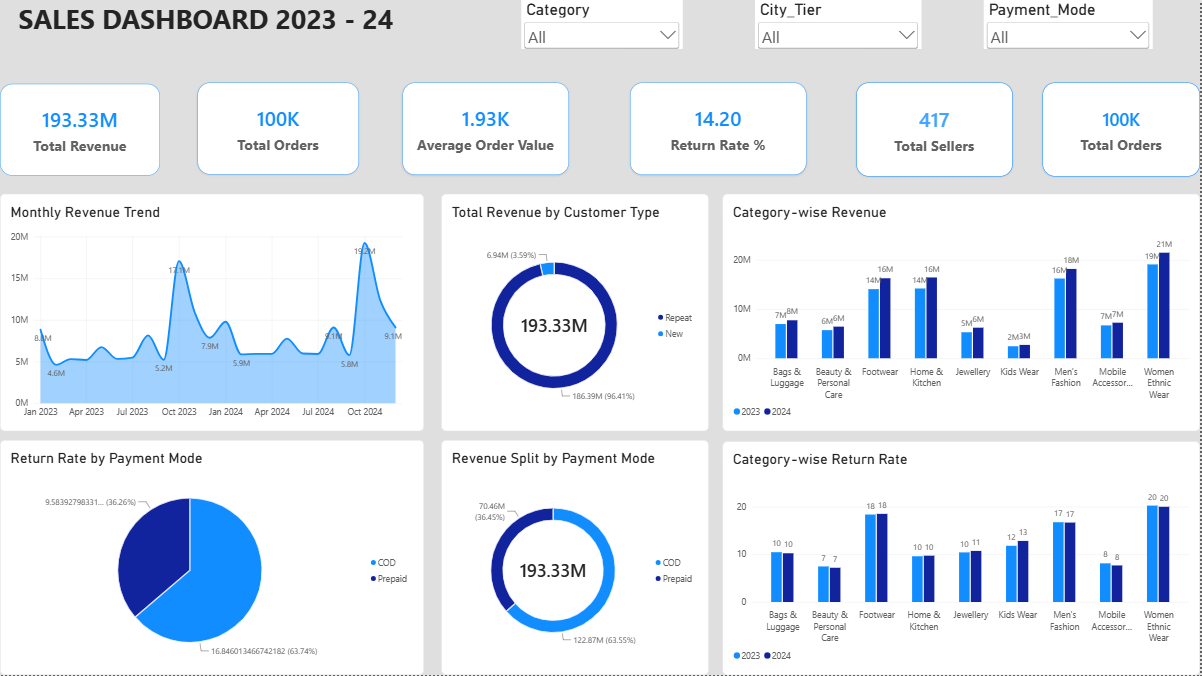

Layout of this report page (visuals, bound fields, positions):
{"tool":"powerbi","page":{"name":"Page 1","canvas":[1920,1080],"ordinal":0},"visuals":[{"type":"card","fields":{"Values":["ecommerce_cleaned.Total Revenue"]},"box":[0,134,256,147.2],"z":0},{"type":"card","fields":{"Values":["ecommerce_cleaned.Total Orders"]},"box":[316,132,258.1,147.2],"z":1},{"type":"card","fields":{"Values":["ecommerce_cleaned.Average Order Value"]},"box":[644,132,266,148],"z":2},{"type":"card","fields":{"Values":["ecommerce_cleaned.Return Rate %"]},"box":[1008,132,252,148],"z":3},{"type":"stackedAreaChart","title":"Monthly Revenue Trend","fields":{"Category":["ecommerce_cleaned.order_date.Variation.Date Hierarchy.Year","ecommerce_cleaned.order_date.Variation.Date Hierarchy.Month"],"Y":["ecommerce_cleaned.Total Revenue"]},"box":[0,310,678,380],"z":4},{"type":"clusteredColumnChart","title":"Category-wise Revenue","fields":{"Category":["ecommerce_cleaned.category"],"Y":["ecommerce_cleaned.Total Revenue"],"Series":["ecommerce_cleaned.order_date.Variation.Date Hierarchy.Year"]},"box":[1156,310,764,380],"z":5},{"type":"pieChart","title":"Return Rate by Payment Mode","fields":{"Category":["ecommerce_cleaned.payment_mode","ecommerce_cleaned.order_date.Variation.Date Hierarchy.Year"],"Y":["ecommerce_cleaned.Return Rate %"]},"box":[0,704,678,376],"z":6},{"type":"clusteredColumnChart","title":"Category-wise Return Rate","fields":{"Category":["ecommerce_cleaned.category"],"Y":["ecommerce_cleaned.Return Rate %"],"Series":["ecommerce_cleaned.order_date.Variation.Date Hierarchy.Year"]},"box":[1156,706,764,374],"z":7},{"type":"donutChart","fields":{"Category":["ecommerce_cleaned.Customer Type"],"Y":["ecommerce_cleaned.Total Revenue"]},"box":[706,310,428,380],"z":8},{"type":"donutChart","title":"Revenue Split by Payment Mode","fields":{"Category":["ecommerce_cleaned.payment_mode"],"Y":["ecommerce_cleaned.Total Revenue"]},"box":[706,704,428,376],"z":9},{"type":"slicer","fields":{"Values":["ecommerce_cleaned.category"]},"box":[834,0,258,78],"z":10},{"type":"slicer","fields":{"Values":["ecommerce_cleaned.city_tier"]},"box":[1156,0,266,78],"z":11},{"type":"slicer","fields":{"Values":["ecommerce_cleaned.payment_mode"]},"box":[1456,0,270,78],"z":12},{"type":"textbox","box":[14,0,630,92],"z":14},{"type":"card","fields":{"Values":["ecommerce_cleaned.Total Sellers"]},"box":[1370,132,222,150],"z":15},{"type":"card","fields":{"Values":["ecommerce_cleaned.Total Orders"]},"box":[1720,132,200,150],"z":16}]}

Visuals, with their boxes in screenshot pixels (x1, y1, x2, y2), scaled from the page's 1920x1080 canvas onto the 1202x676 screenshot:
card - ecommerce_cleaned.Total Revenue: {"x1": 0, "y1": 84, "x2": 160, "y2": 176}
card - ecommerce_cleaned.Total Orders: {"x1": 198, "y1": 83, "x2": 359, "y2": 175}
card - ecommerce_cleaned.Average Order Value: {"x1": 403, "y1": 83, "x2": 570, "y2": 175}
card - ecommerce_cleaned.Return Rate %: {"x1": 631, "y1": 83, "x2": 789, "y2": 175}
"Monthly Revenue Trend" stackedAreaChart: {"x1": 0, "y1": 194, "x2": 424, "y2": 432}
"Category-wise Revenue" clusteredColumnChart: {"x1": 724, "y1": 194, "x2": 1201, "y2": 432}
"Return Rate by Payment Mode" pieChart: {"x1": 0, "y1": 441, "x2": 424, "y2": 675}
"Category-wise Return Rate" clusteredColumnChart: {"x1": 724, "y1": 442, "x2": 1201, "y2": 675}
donutChart - ecommerce_cleaned.Customer Type x ecommerce_cleaned.Total Revenue: {"x1": 442, "y1": 194, "x2": 710, "y2": 432}
"Revenue Split by Payment Mode" donutChart: {"x1": 442, "y1": 441, "x2": 710, "y2": 675}
slicer - ecommerce_cleaned.category: {"x1": 522, "y1": 0, "x2": 684, "y2": 49}
slicer - ecommerce_cleaned.city_tier: {"x1": 724, "y1": 0, "x2": 890, "y2": 49}
slicer - ecommerce_cleaned.payment_mode: {"x1": 912, "y1": 0, "x2": 1081, "y2": 49}
textbox: {"x1": 9, "y1": 0, "x2": 403, "y2": 58}
card - ecommerce_cleaned.Total Sellers: {"x1": 858, "y1": 83, "x2": 997, "y2": 177}
card - ecommerce_cleaned.Total Orders: {"x1": 1077, "y1": 83, "x2": 1201, "y2": 177}
